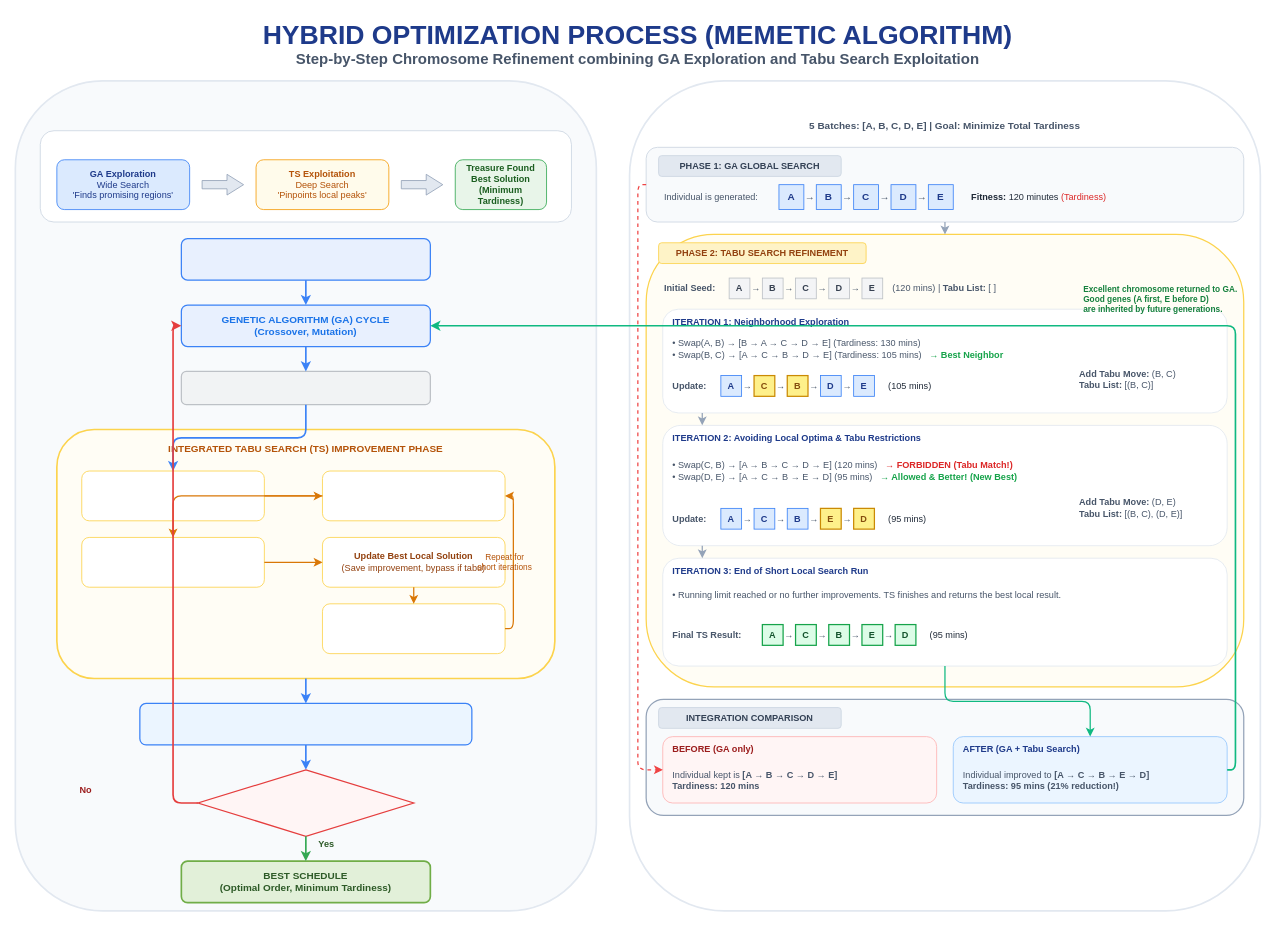
This 1278x925 diagram has some shape labels left out. Here are the shapes that lost their labels. From the top down, the box of each, then its label:
(39, 130, 571, 222): GA + TS HYBRID COMBINATION
(180, 238, 431, 280): START: INITIAL POPULATION (e.g., SMT Schedules)
(180, 370, 431, 405): GENERATE OFFSPRING
(81, 470, 264, 521): Select Individuals (e.g., best offspring) as Starting Point
(14, 80, 597, 911): STANDARDIZED OPERATIONAL PROCESS
(322, 470, 505, 521): Neighboring Search (Swap / Insert keys)
(628, 80, 1261, 911): SMT SCHEDULING EXAMPLE (LED SEGMENTATION)
(81, 537, 264, 587): Evaluate Neighbors (Decode & calculate fitness)
(322, 603, 505, 654): Add Moves to Tabu List (Prevent cycles and back-tracking)
(139, 702, 472, 745): UPDATE POPULATION WITH IMPROVED INDIVIDUALS
(197, 769, 414, 836): TERMINATION CRITERIA MET?
